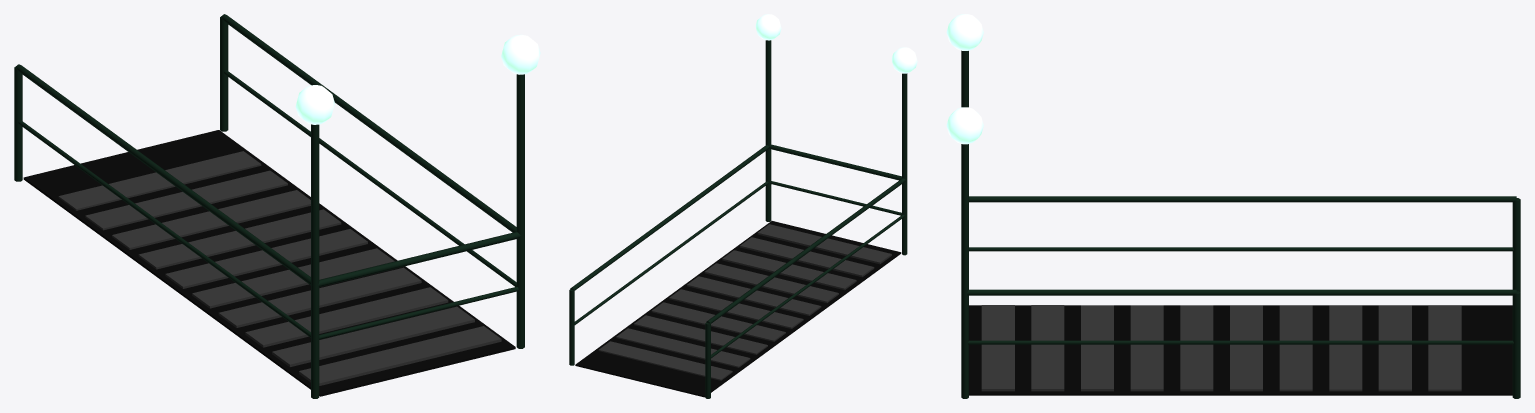
The model's file is subway_entrance.glb.
3 views of the same model, side by side, from view 1: azimuth 30°, elevation 25°; view 2: azimuth 150°, elevation 25°; view 3: azimuth 270°, elevation 25° (orthographic). The views are drawn at different scales.
Visible parts, largest first — view 1: subway_body, subway_glow; view 2: subway_body, subway_glow; view 3: subway_body, subway_glow.
Part boxes in pixels (x1,y1,x2,y2): subway_body: [14, 14, 524, 398]; subway_glow: [295, 34, 540, 124]; subway_body: [569, 40, 907, 398]; subway_glow: [755, 14, 917, 73]; subway_body: [961, 50, 1520, 398]; subway_glow: [946, 14, 983, 144].
Bounding box in the file's own units: 2.32 × 2.9 × 5.21.
